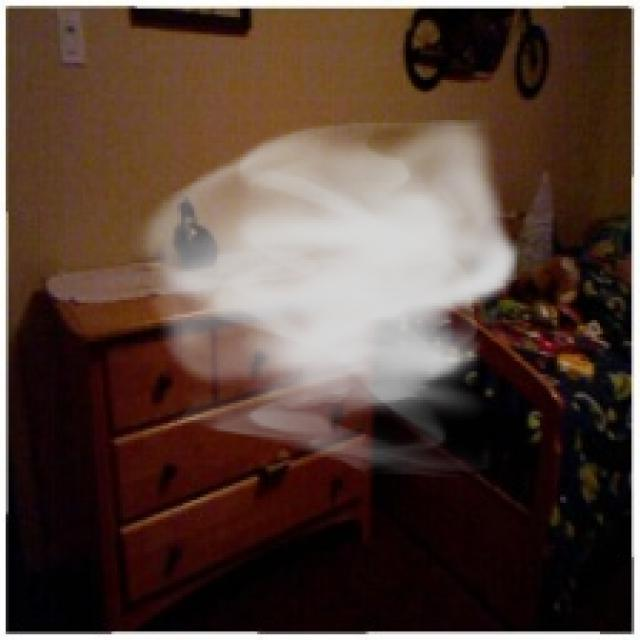Smoke: (128, 108, 523, 480)
